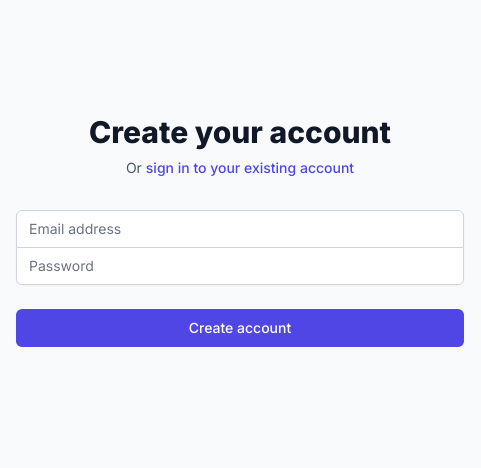
SignUpPage › shows validation error for short password
Type "test@example.com" into the field with placeholder "Email address".
click(240, 228); type("test@example.com")  # box [16, 210, 464, 248]
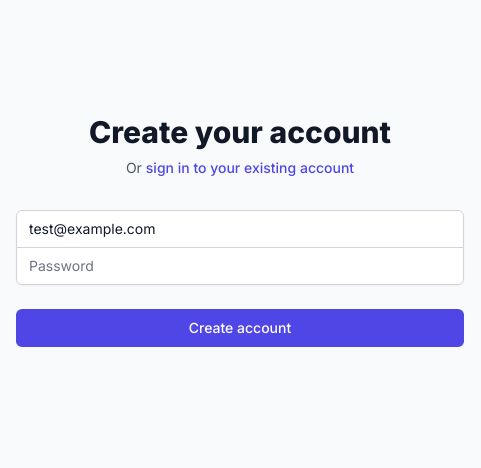
Type "123" into the password field with placeholder "Password".
click(240, 266); type("123")  # box [16, 246, 464, 284]
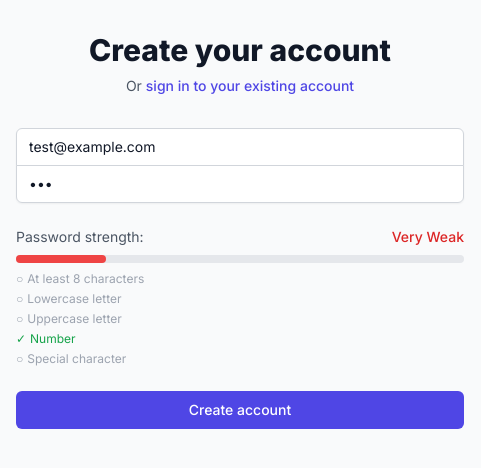
Click the button "Create account".
click(240, 410)  # box [16, 390, 464, 428]
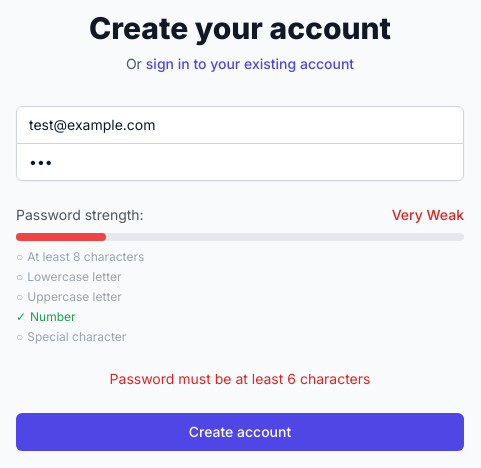
Expected: the text "Password must be at least 6 characters" is shown, [110, 370, 370, 386]
